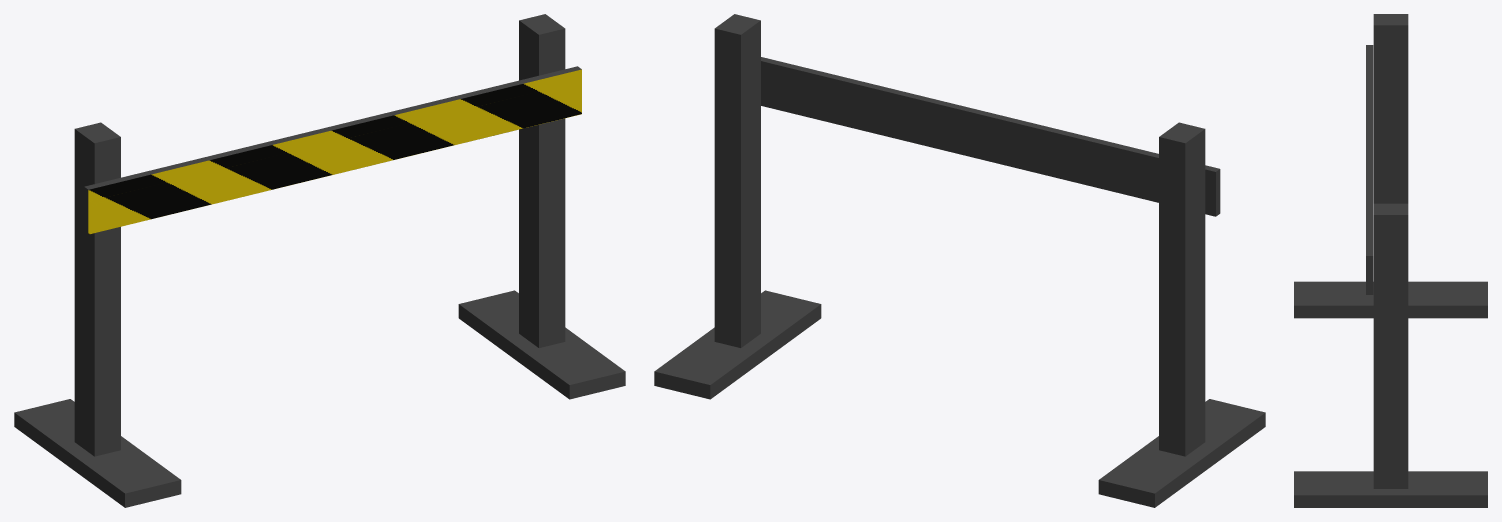
Rendered from Road Block.fbx.
3 renders of one model, left to right at view 1: azimuth 30°, elevation 25°; view 2: azimuth 150°, elevation 25°; view 3: azimuth 270°, elevation 25°, orthographic. The views are drawn at different scales.
Parts seen in each view (by area): view 1: Road Block; view 2: Road Block; view 3: Road Block.
Boxes of the visible parts, bbox=[...] form: Road Block: bbox=[14, 14, 625, 507]; Road Block: bbox=[654, 14, 1265, 507]; Road Block: bbox=[1294, 14, 1487, 507].
Size of the model in its own units: 200 by 125 by 76.51.
Materials: 2 (1 with a texture image).
